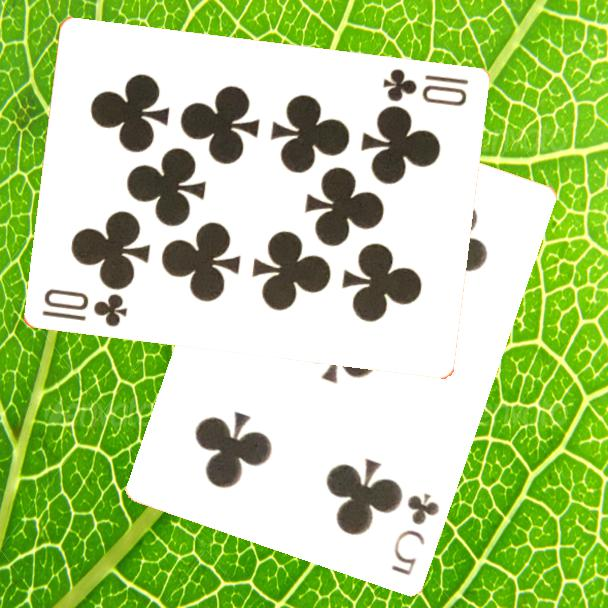c05: (388, 488, 442, 578)
c10: (38, 285, 130, 331), (378, 65, 471, 110)
